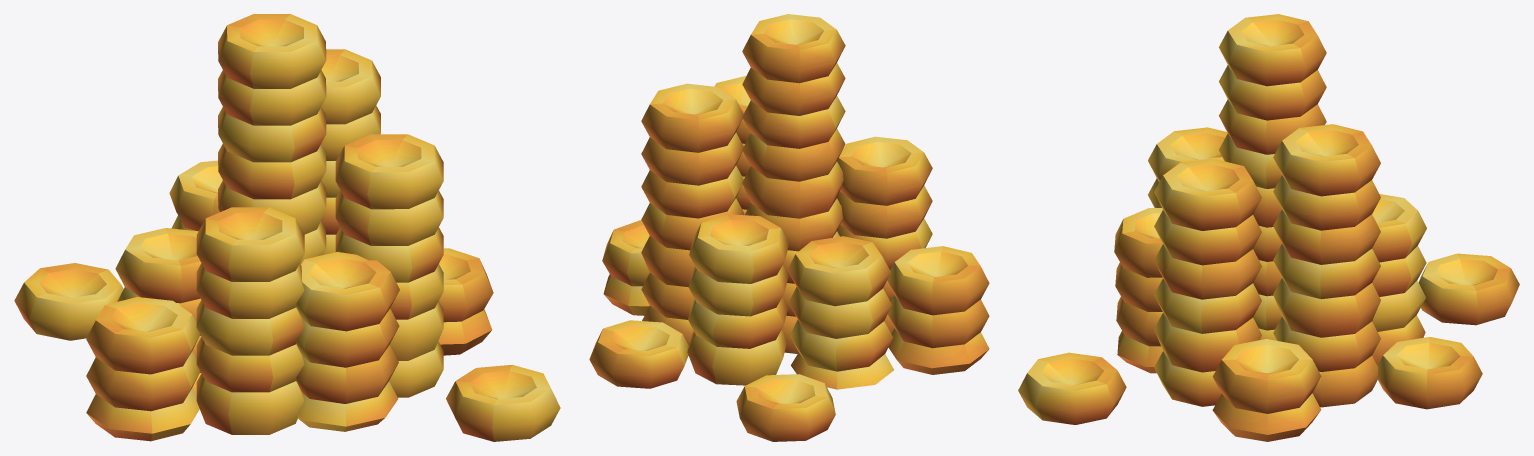
The model's file is coin_stack_large.glb.
3 views of the same model, side by side, from view 1: azimuth 30°, elevation 25°; view 2: azimuth 150°, elevation 25°; view 3: azimuth 270°, elevation 25° (orthographic). The views are drawn at different scales.
Parts seen in each view (by area): view 1: coin_stack_large; view 2: coin_stack_large; view 3: coin_stack_large.
Part boxes in pixels (x1,y1,x2,y2): coin_stack_large: [14, 14, 560, 441]; coin_stack_large: [589, 14, 989, 441]; coin_stack_large: [1018, 14, 1519, 441].
Size of the model in its own units: 1.44 by 1.16 by 1.66.
Materials: 1 (1 with a texture image).
